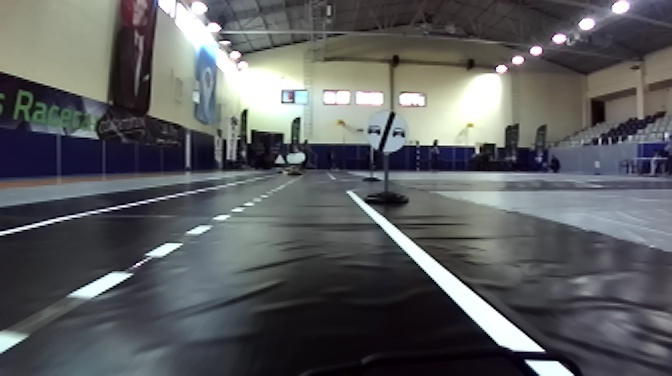sollama_serbest: (366, 110, 408, 154)
